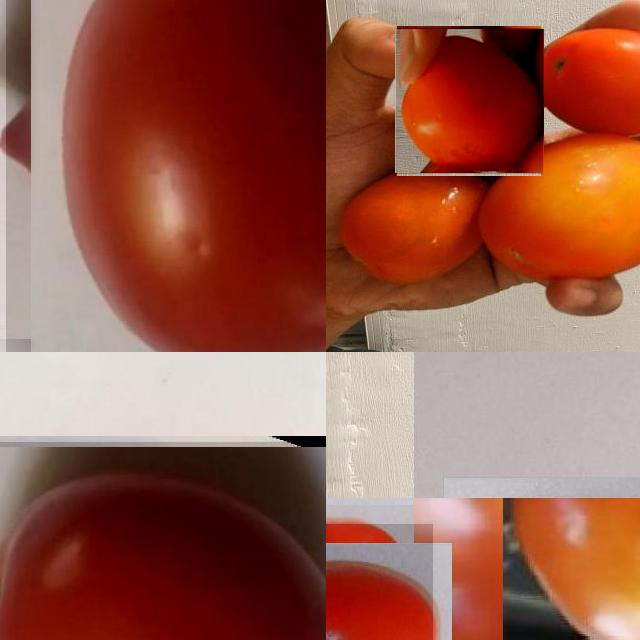Fresh Tomato: (6, 0, 326, 352), (0, 441, 326, 640), (481, 139, 640, 281), (396, 28, 543, 174), (414, 498, 560, 640), (328, 161, 487, 286), (503, 498, 640, 640), (532, 19, 640, 139), (326, 524, 433, 640)
